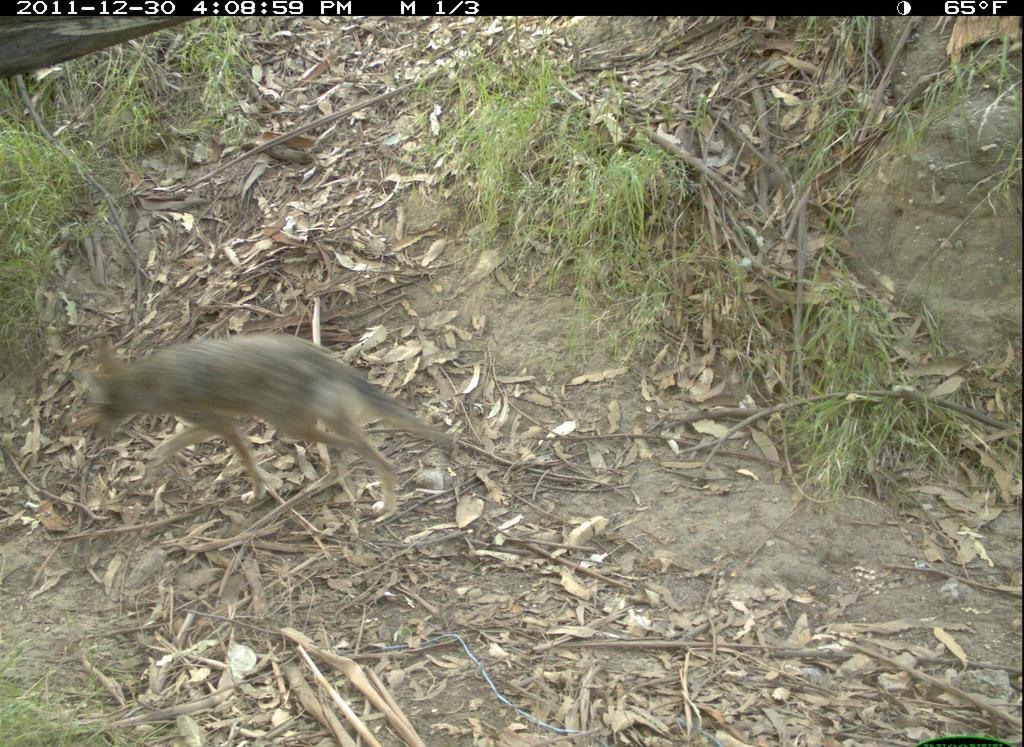coyote: (59, 337, 479, 519)
